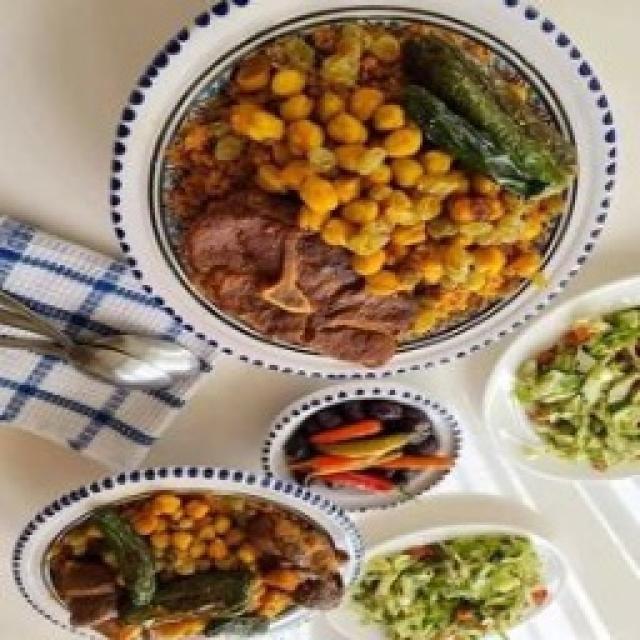Couscous: (166, 20, 575, 369), (51, 503, 348, 640)
